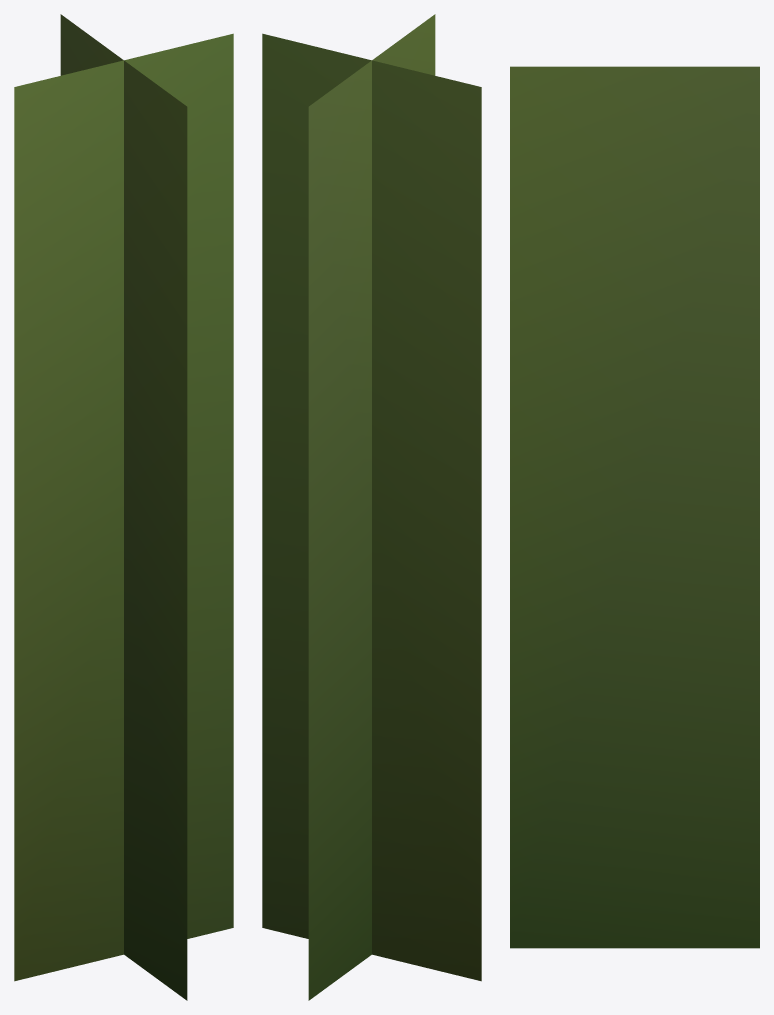
Rendered from groundcover_bk_foret_broceliande_0003.glb.
3 views of the same model, side by side, from view 1: azimuth 30°, elevation 25°; view 2: azimuth 150°, elevation 25°; view 3: azimuth 270°, elevation 25° (orthographic).
Visible parts, largest first — view 1: groundcover_bk_003; view 2: groundcover_bk_003; view 3: groundcover_bk_003.
Part boxes in pixels (x1=…): groundcover_bk_003: x1=14, y1=14, x2=233, y2=1000; groundcover_bk_003: x1=262, y1=14, x2=481, y2=1000; groundcover_bk_003: x1=510, y1=66, x2=759, y2=948.
Bounding box in the file's own units: 0.1284 × 0.5 × 0.1284.
